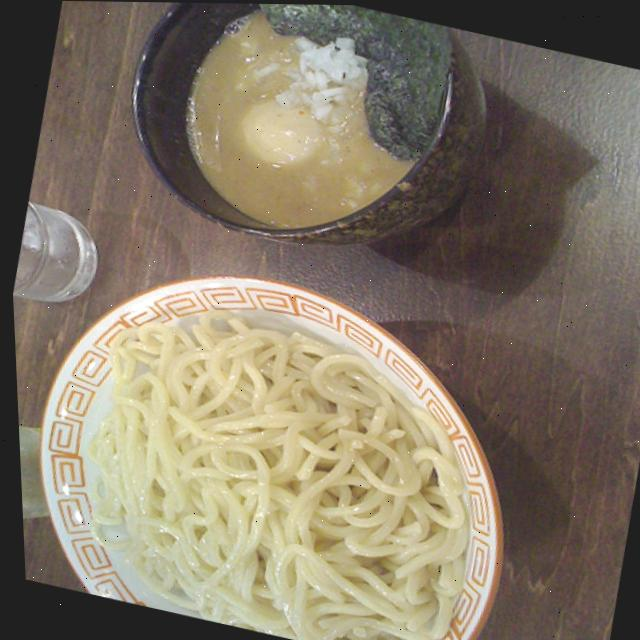面条主食: (13, 0, 571, 640)
